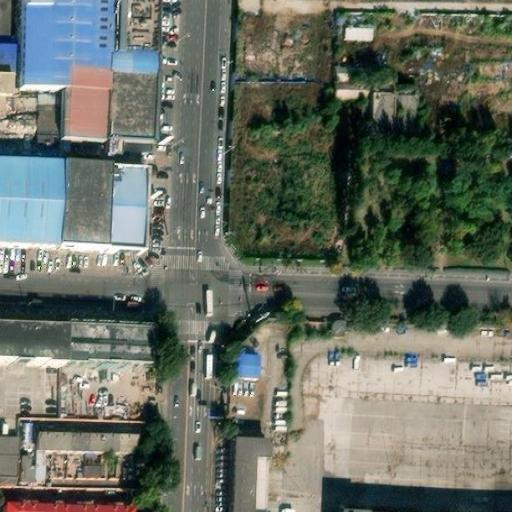building: (21, 0, 110, 92), (61, 162, 114, 250), (60, 328, 153, 370), (107, 71, 158, 143), (112, 163, 148, 251), (229, 438, 267, 512), (61, 91, 108, 141), (39, 430, 141, 452), (3, 501, 137, 512), (37, 90, 62, 142), (332, 64, 369, 97), (109, 52, 158, 72), (372, 90, 397, 126), (236, 354, 262, 378), (20, 454, 37, 482), (36, 448, 49, 482), (343, 27, 373, 41), (202, 349, 216, 376)
